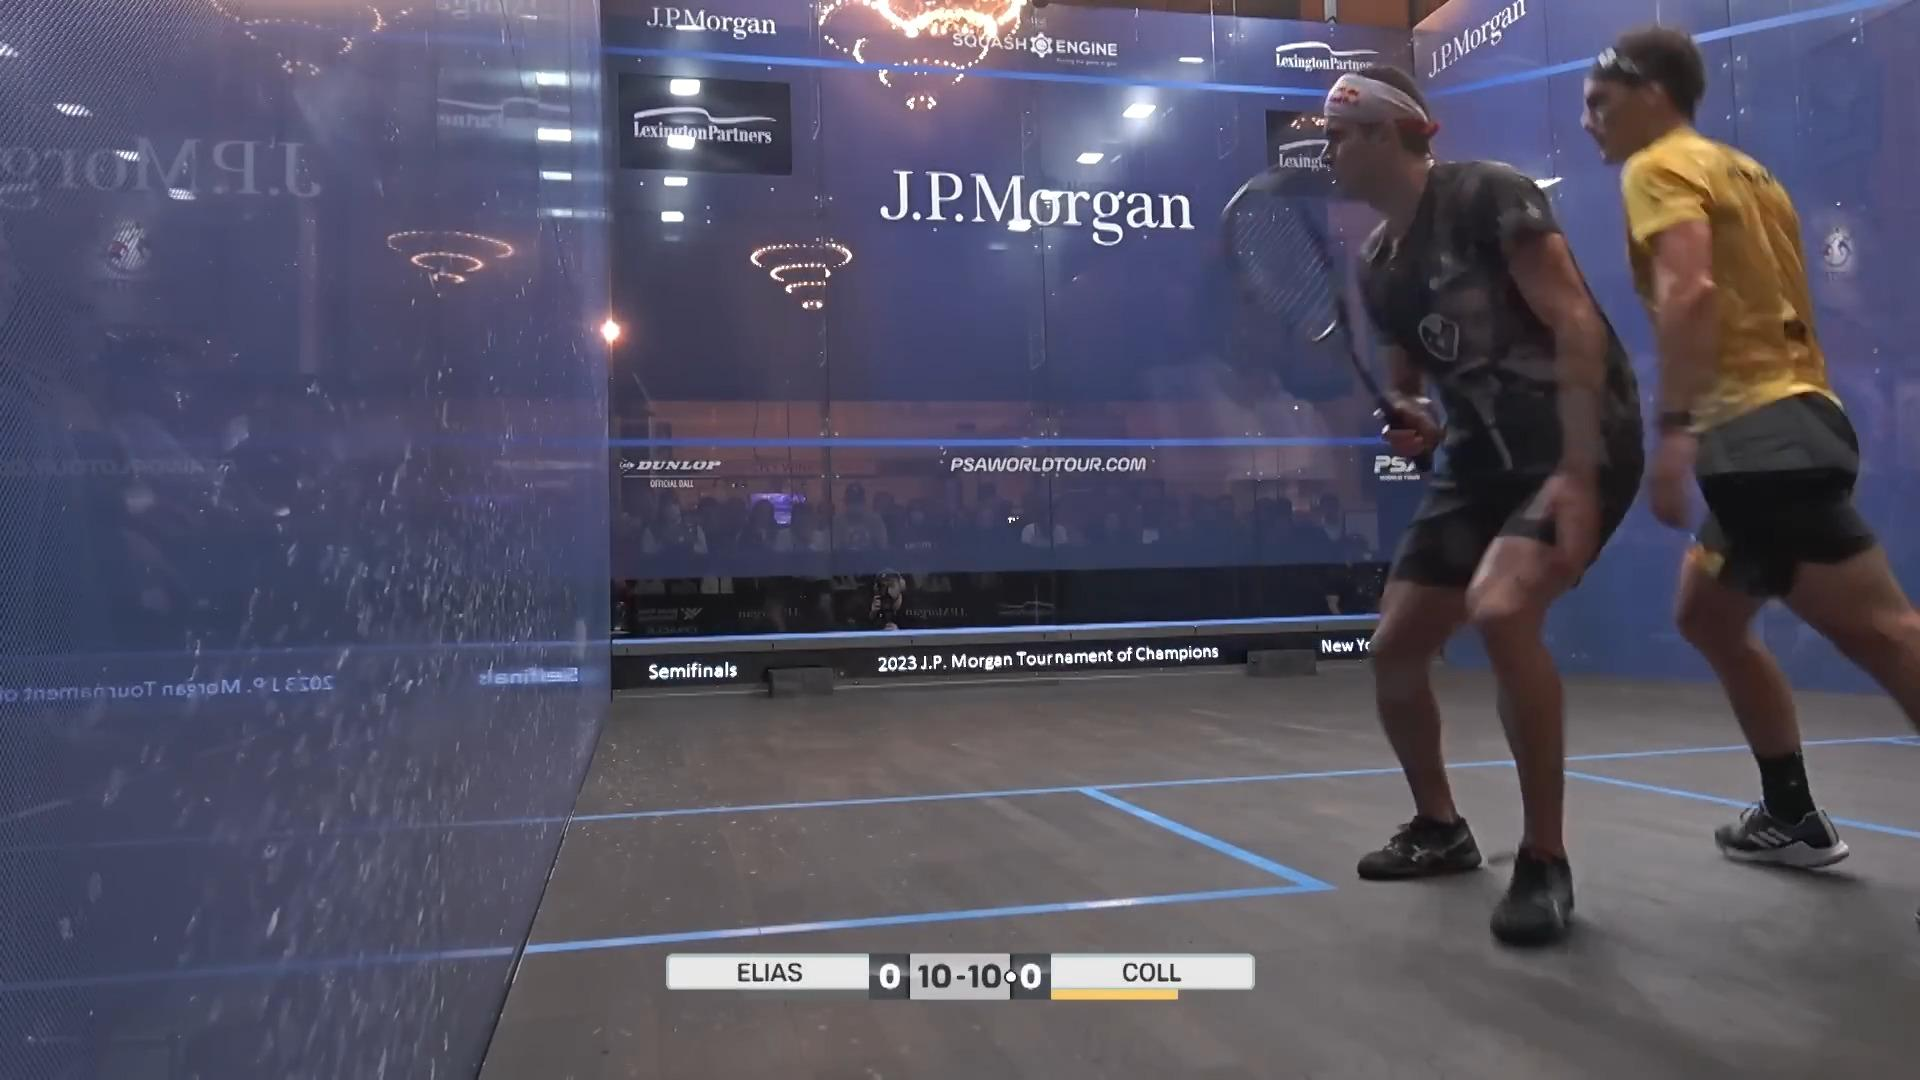Racket: (1205, 162, 1406, 446)
